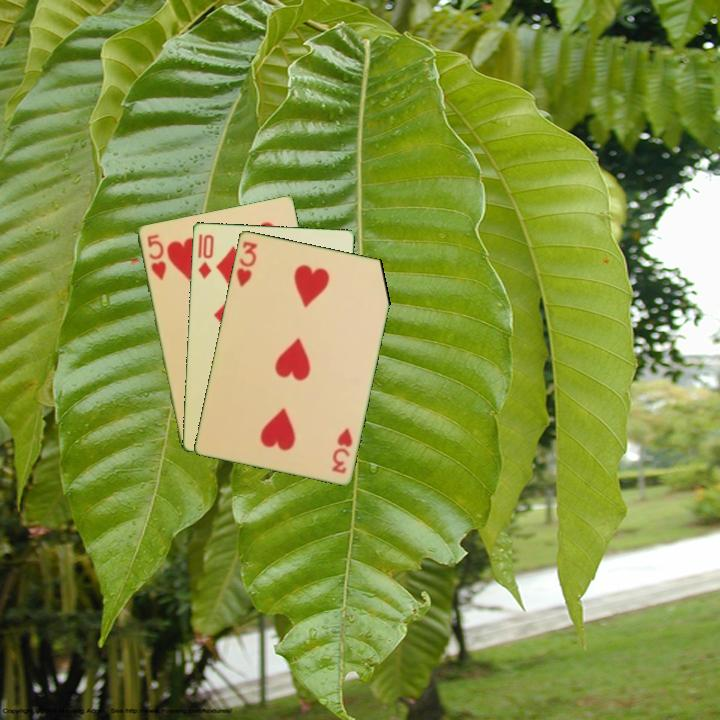10d: (194, 230, 216, 281)
3h: (233, 237, 260, 290), (328, 424, 355, 476)
5h: (143, 230, 169, 283)
